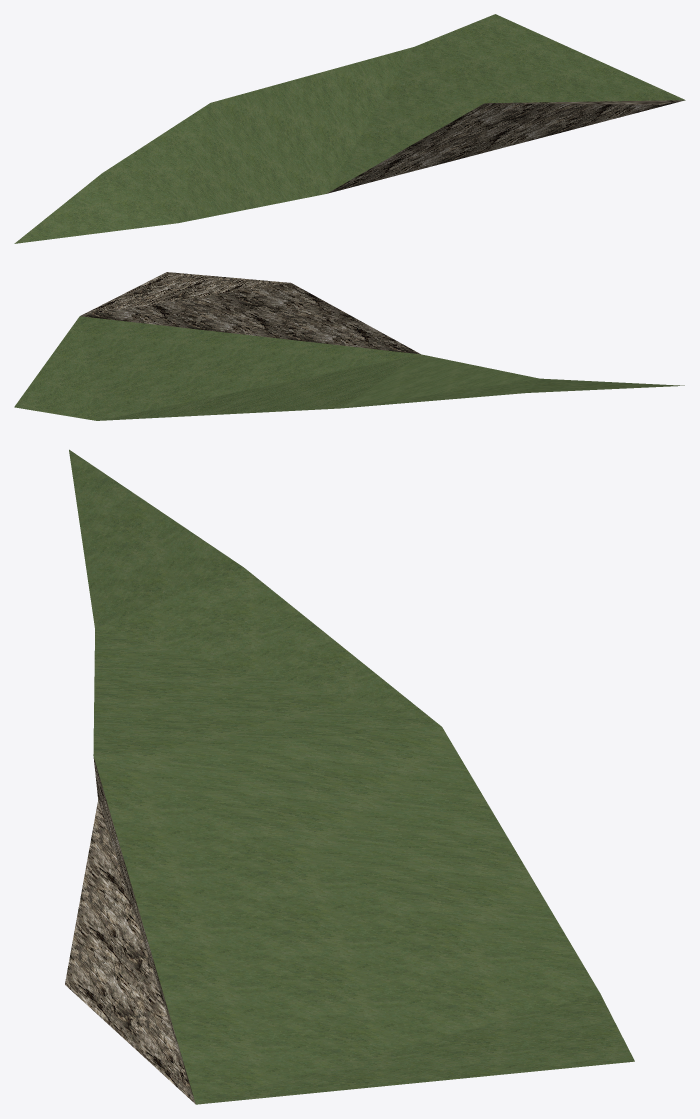
The model's file is LODa_carisle_mid_landmass_00_00.fbx.
The picture shows the model from 3 angles, top to bottom: view 1: azimuth 30°, elevation 25°; view 2: azimuth 150°, elevation 25°; view 3: azimuth 270°, elevation 25°; orthographic projection. The views are drawn at different scales.
Parts seen in each view (by area): view 1: LODa_carisle_mid_landmass_00_00; view 2: LODa_carisle_mid_landmass_00_00; view 3: LODa_carisle_mid_landmass_00_00.
Boxes of the visible parts, x1=… form: LODa_carisle_mid_landmass_00_00: x1=14, y1=14, x2=685, y2=243; LODa_carisle_mid_landmass_00_00: x1=14, y1=272, x2=684, y2=420; LODa_carisle_mid_landmass_00_00: x1=65, y1=449, x2=634, y2=1104.
Bounding box in the file's own units: 54.74 × 23.53 × 5.74.
Materials: 2 (2 with a texture image).
